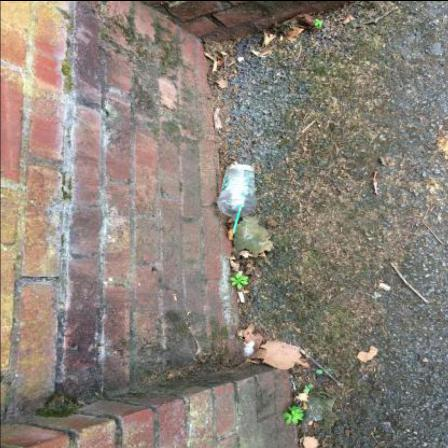Cigarette: (239, 291, 246, 303), (204, 52, 214, 60), (214, 61, 218, 71), (281, 36, 283, 41)
Cup: (219, 165, 259, 207)
Lid: (218, 198, 258, 217)
Straw: (232, 207, 242, 234)
